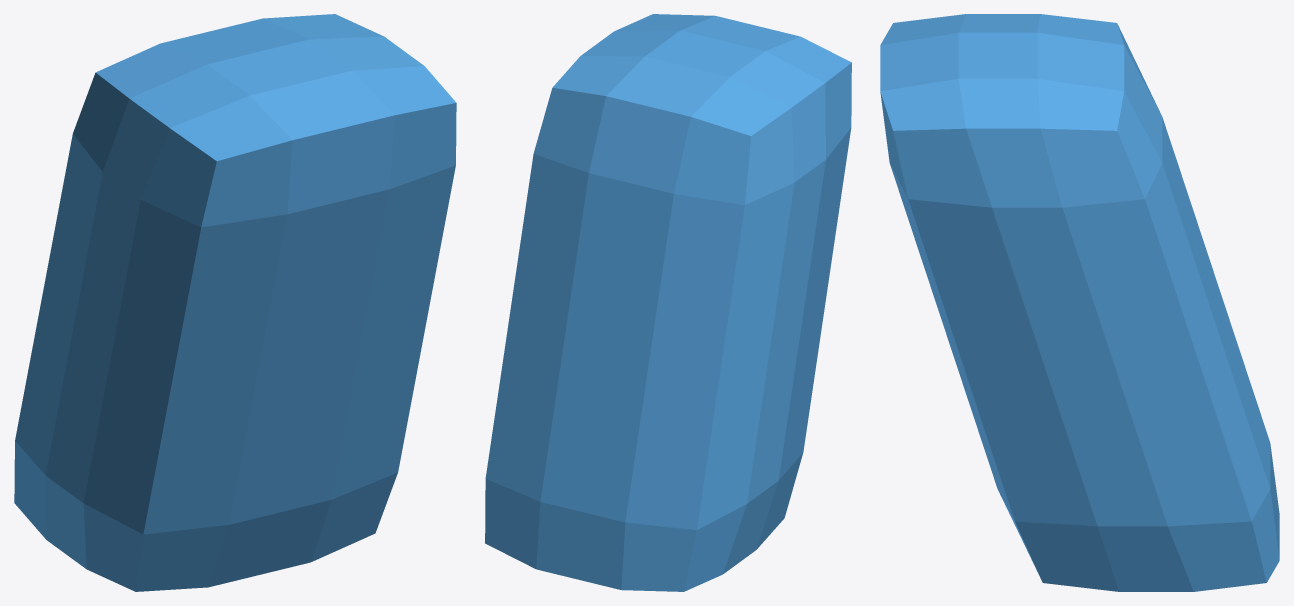
File: helmet__crest__short_crest.glb
3 views of the same model, side by side, from view 1: azimuth 30°, elevation 25°; view 2: azimuth 150°, elevation 25°; view 3: azimuth 270°, elevation 25° (orthographic). The views are drawn at different scales.
Parts seen in each view (by area): view 1: armor_topping_helmet_crest_short_crest_v001_v001; view 2: armor_topping_helmet_crest_short_crest_v001_v001; view 3: armor_topping_helmet_crest_short_crest_v001_v001.
Part boxes in pixels (bbox=[...]): armor_topping_helmet_crest_short_crest_v001_v001: bbox=[14, 14, 456, 591]; armor_topping_helmet_crest_short_crest_v001_v001: bbox=[485, 14, 851, 591]; armor_topping_helmet_crest_short_crest_v001_v001: bbox=[880, 14, 1279, 591].
Bounding box in the file's own units: 0.025 × 0.045 × 0.0329.
